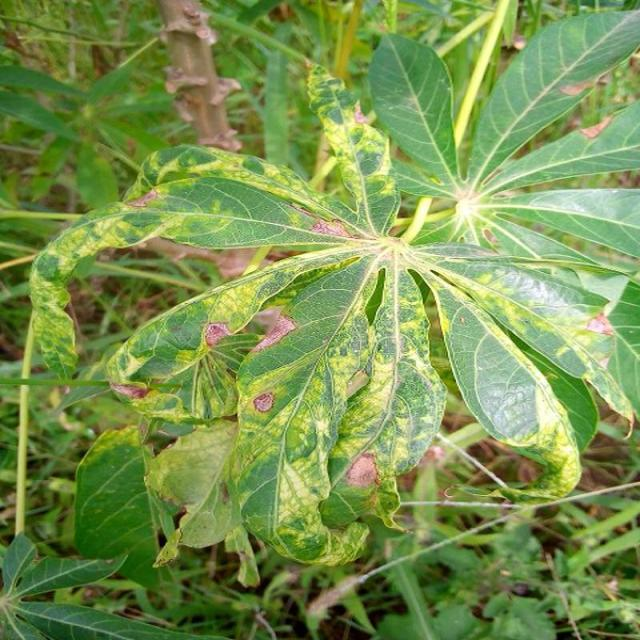cassava leaf: (26, 5, 639, 578)
